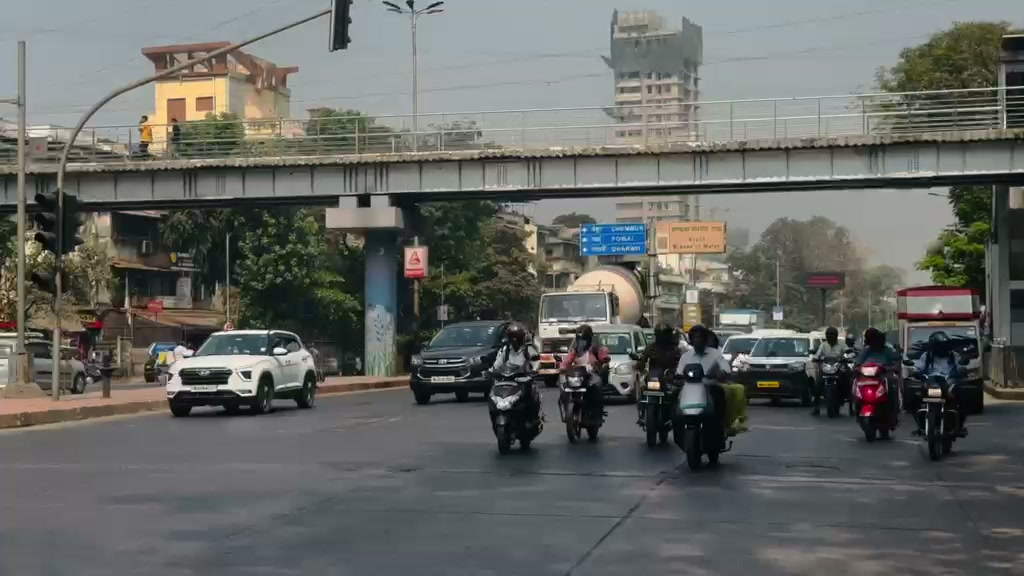car: (165, 328, 319, 416), (409, 321, 507, 403), (733, 333, 817, 406), (592, 326, 644, 402), (144, 341, 191, 383), (721, 335, 758, 371)
motorcycle: (647, 361, 747, 461), (667, 362, 729, 471), (485, 362, 546, 455), (914, 368, 965, 460), (556, 362, 609, 444), (851, 361, 902, 442), (637, 368, 682, 448), (812, 359, 851, 418)
pedestrian: (665, 324, 733, 443), (487, 322, 542, 433), (906, 331, 963, 436), (634, 322, 690, 424), (556, 322, 612, 423), (848, 327, 905, 420), (807, 325, 853, 416)
truck: (895, 285, 987, 407), (537, 267, 643, 372)
